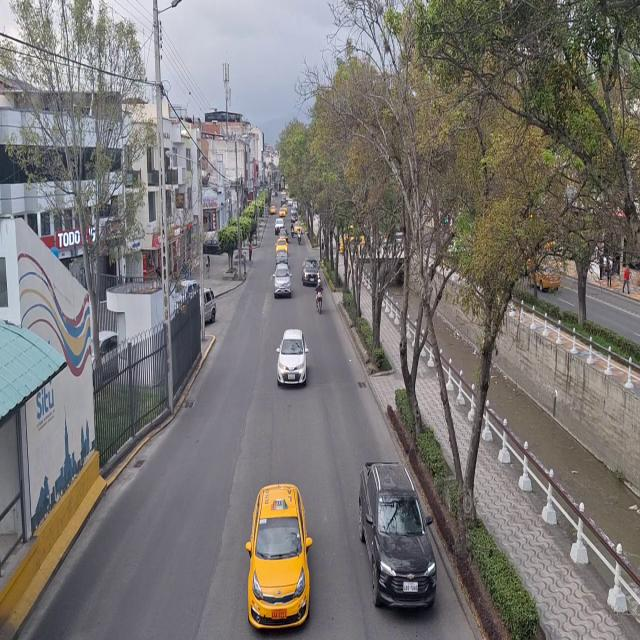CMT: (358, 458, 434, 608)
MOTORCYCLE: (316, 291, 322, 315), (298, 233, 301, 245)
SED: (250, 485, 312, 628)
